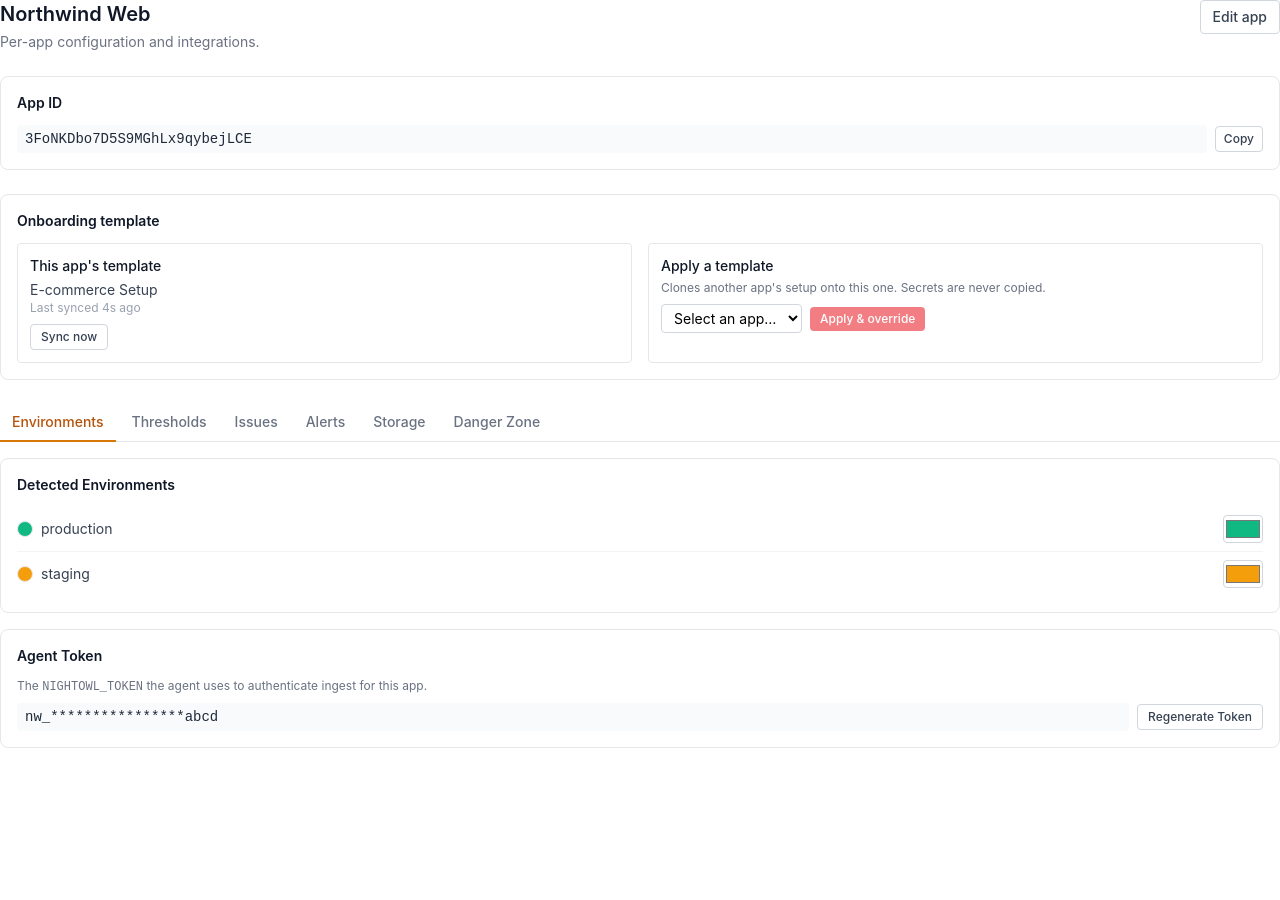
Test: SettingsPage › Alerts tab › opens a modal and creates a slack channel, refreshing the list afterward
Click the button "Alerts" at coordinates (325, 423), box [294,404,357,442]
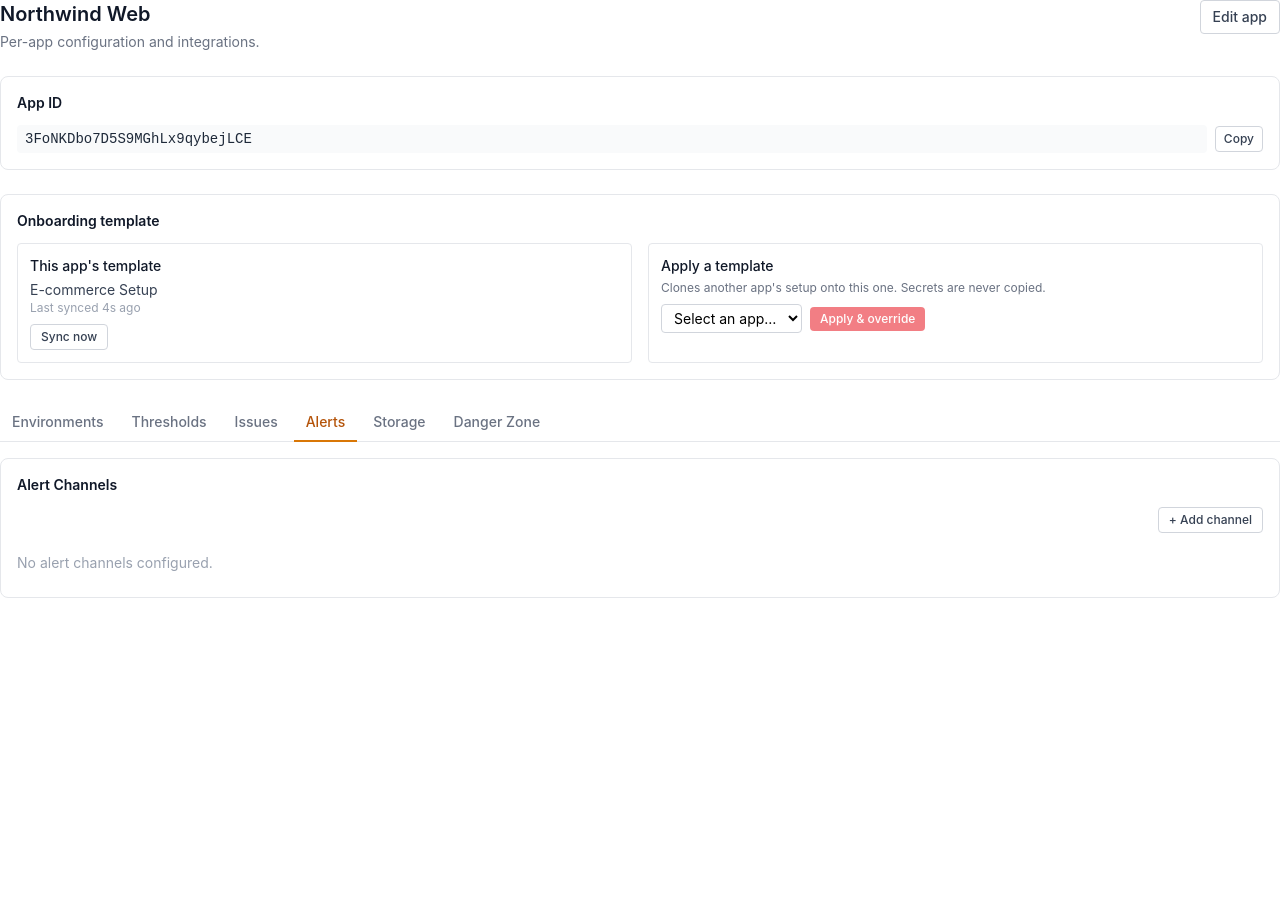
Click the button "+ Add channel" at coordinates (1210, 520), box [1158,507,1263,533]
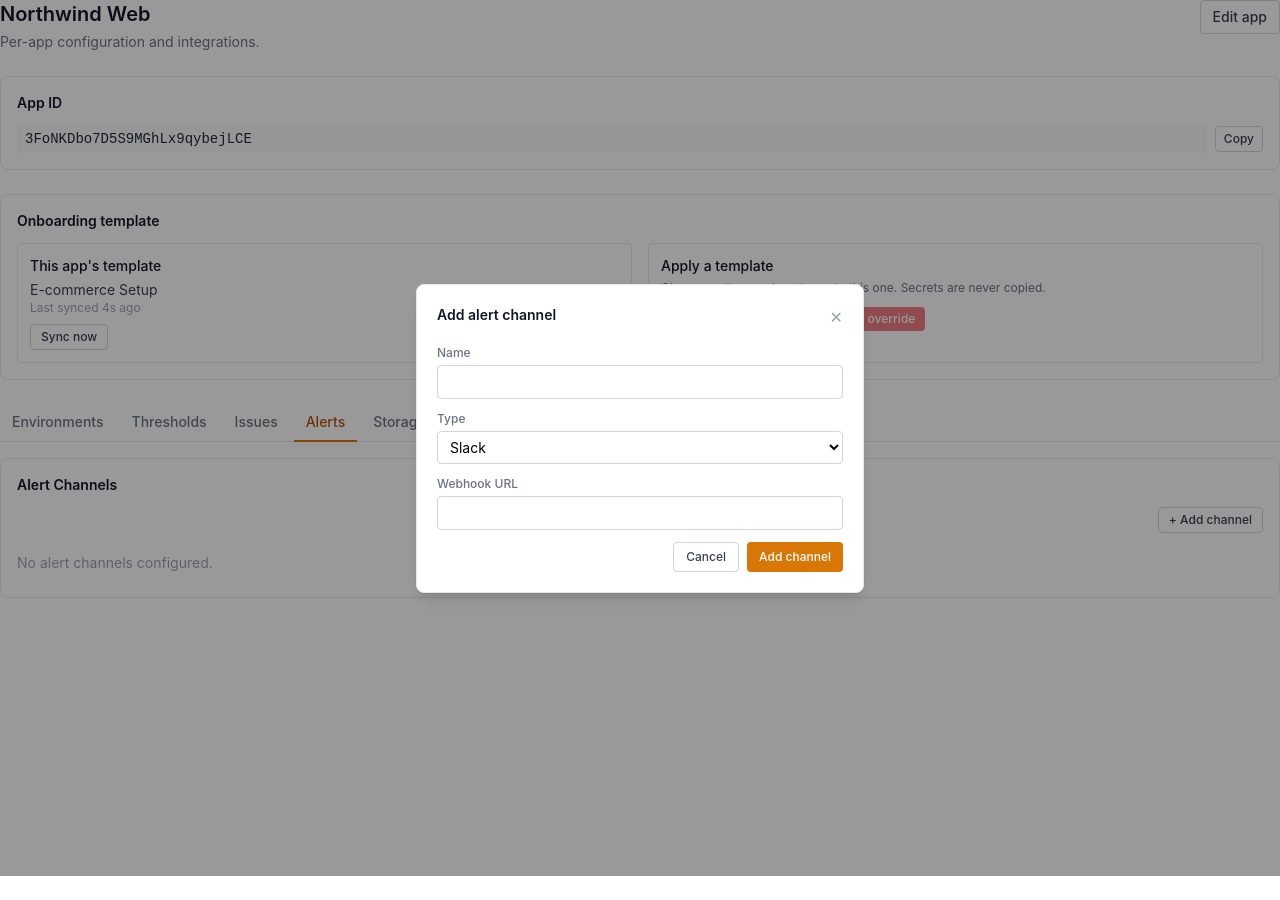
expect the dialog is shown: met, box [416,284,864,592]
Type "#incidents" into the field with test id "alert-channel-modal-name" at coordinates (640, 382), box [437,364,843,398]
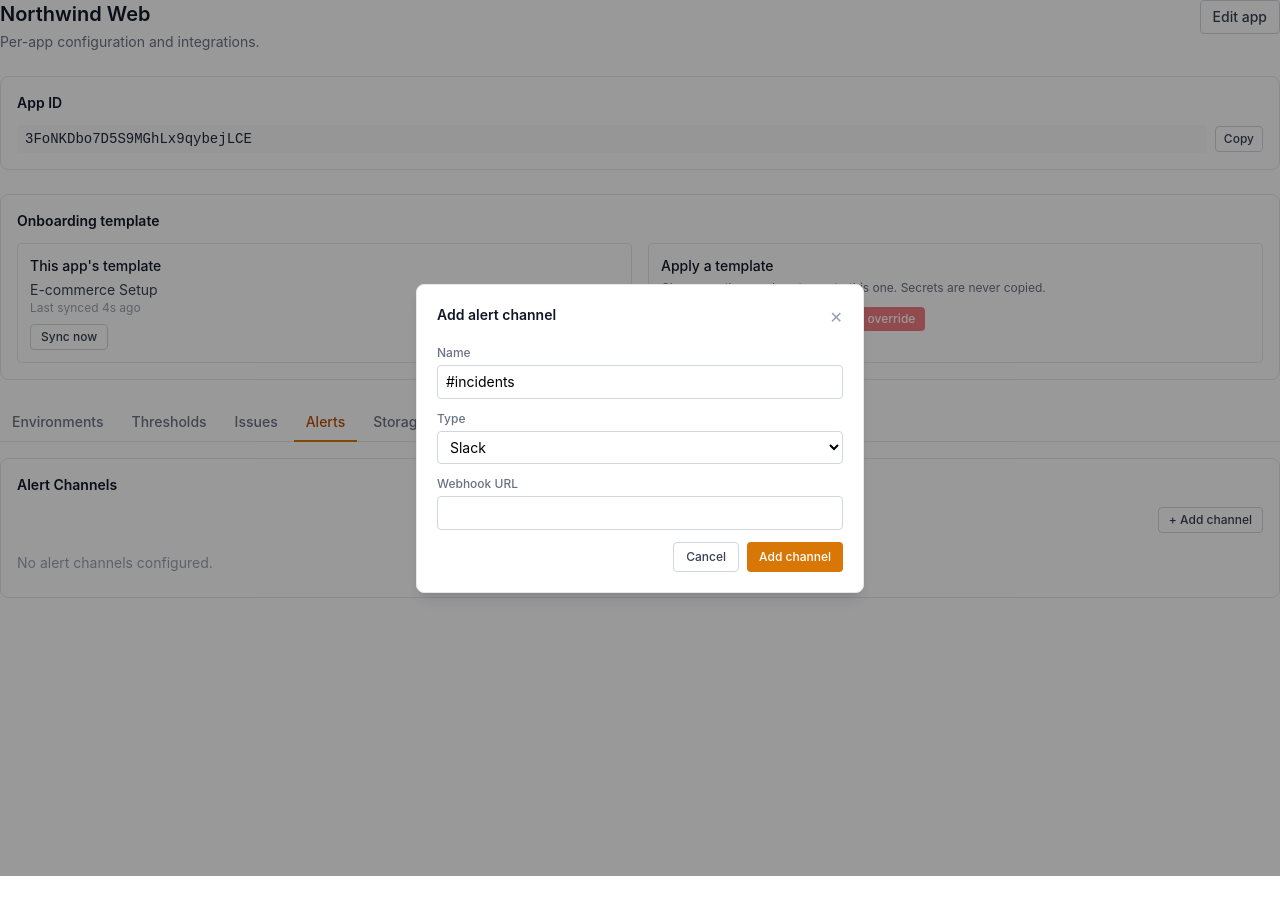
Select "Slack" in the dropdown with test id "alert-channel-modal-type" at coordinates (640, 447), box [437,430,843,464]
Type "https://hooks.slack.com/services/xxx" into the field with test id "alert-channel-modal-webhook-url" at coordinates (640, 512), box [437,496,843,530]
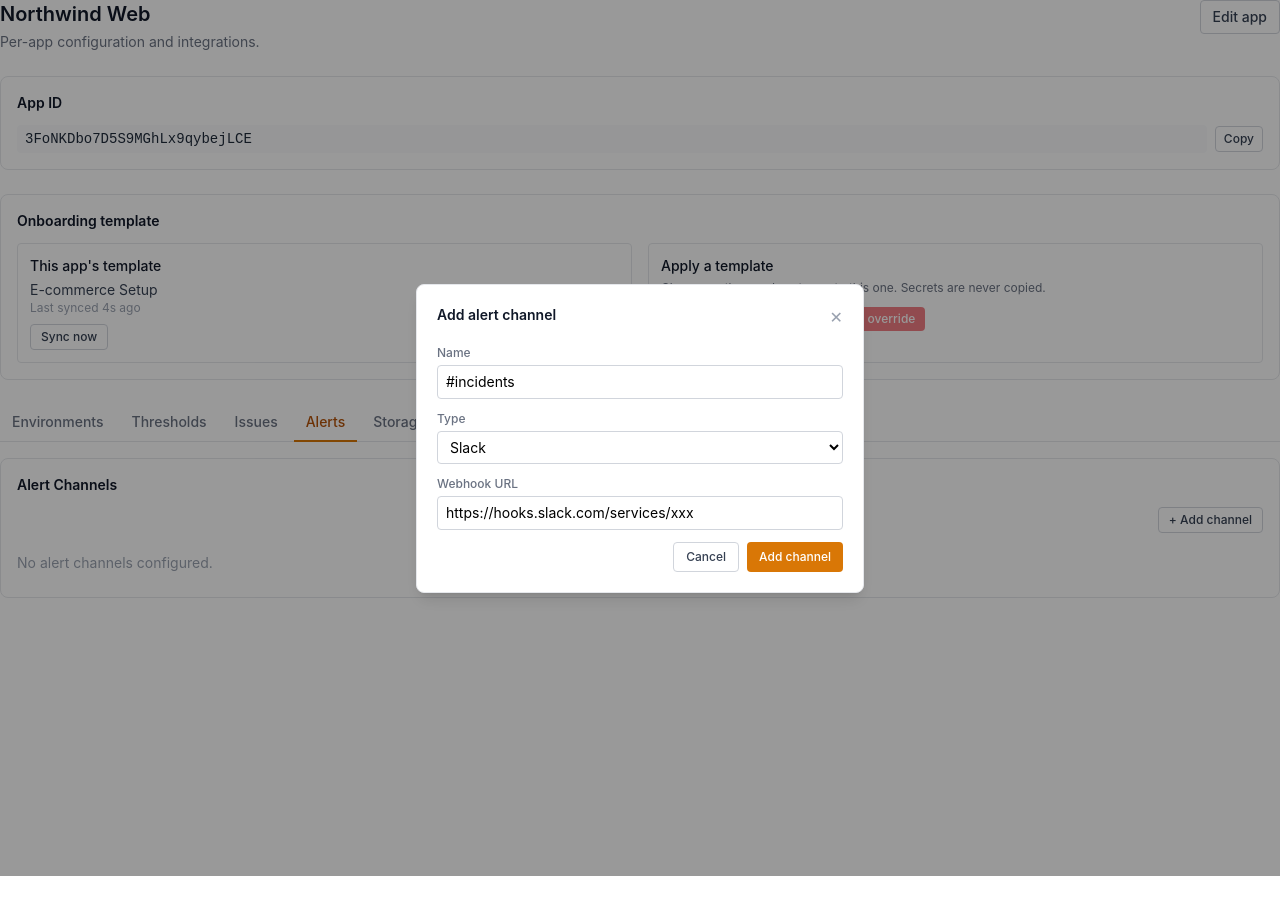
Click the button with test id "alert-channel-modal-submit" at coordinates (795, 556), box [747,542,843,572]
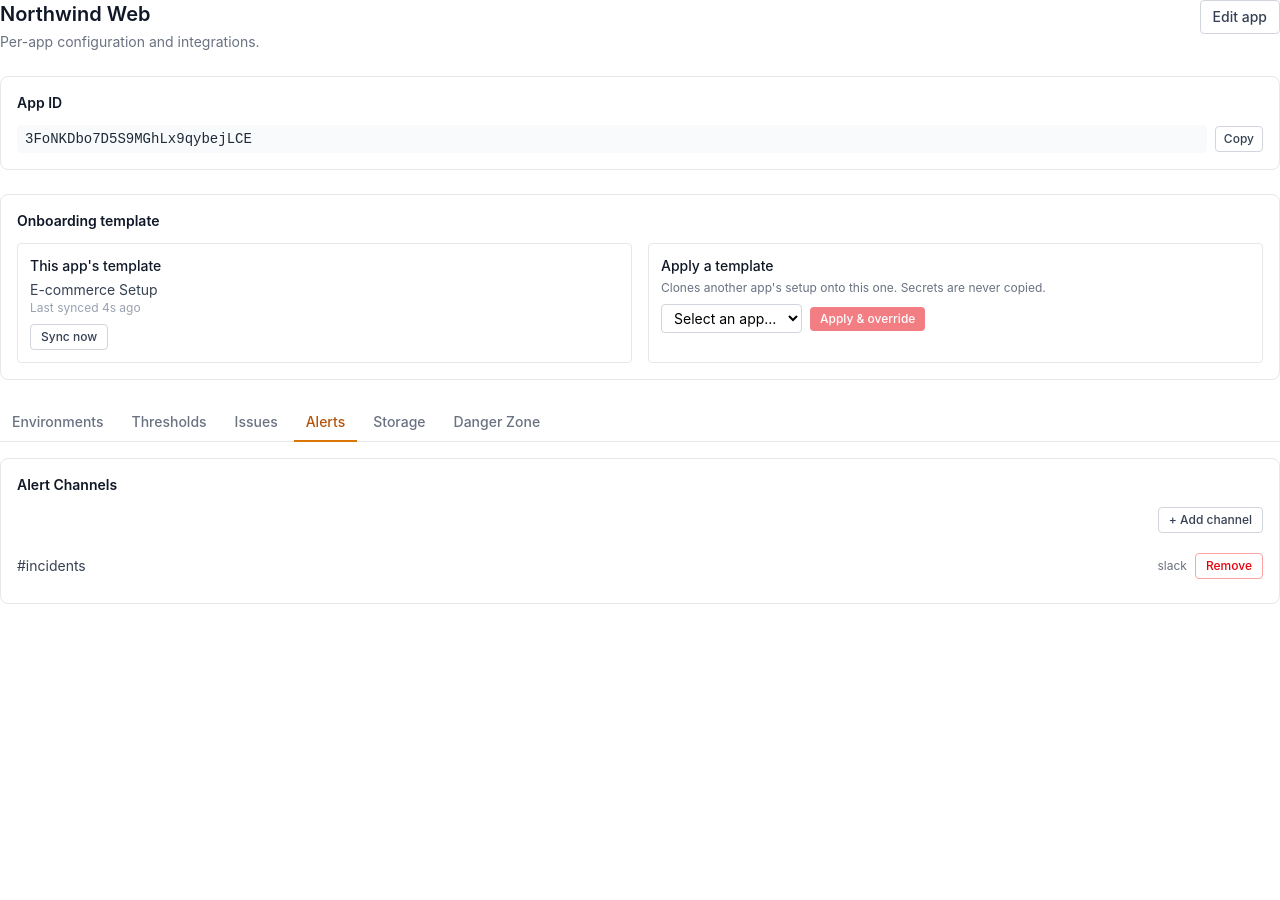
expect the text "#incidents" is shown: met, box [17,556,86,576]
